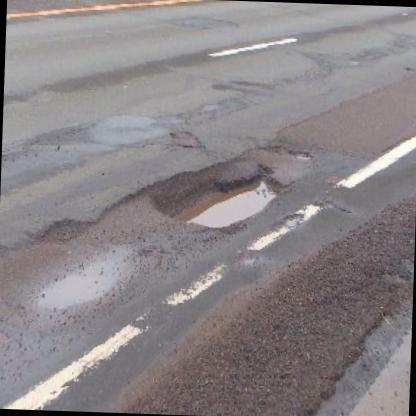pothole: (145, 164, 285, 233), (40, 213, 96, 245)
